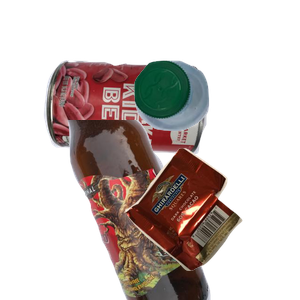glass: (65, 120, 300, 300)
metal: (41, 58, 240, 207)
plastic: (132, 58, 300, 182)
trash: (123, 145, 300, 300)
